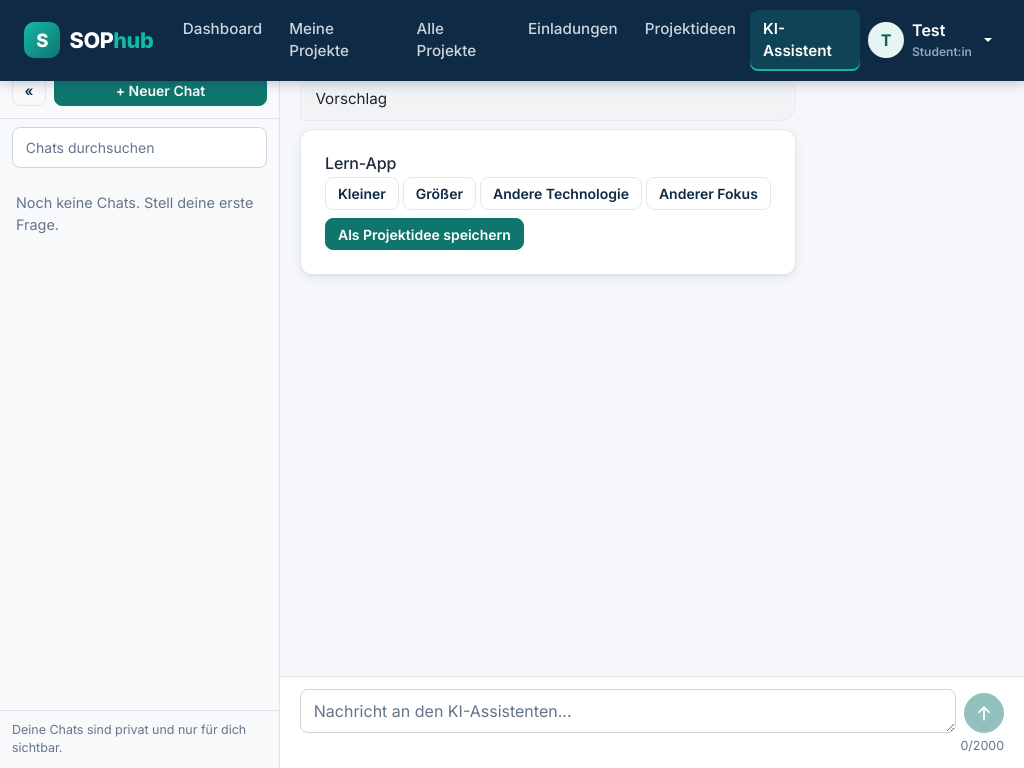
SopAssistent › führt 'Als Projektidee speichern' zum Projektformular
The image size is (1024, 768).
(page scrolled)
Click the button "Als Projektidee speichern" at (424, 234), box [325,218,524,250]
(page scrolled)
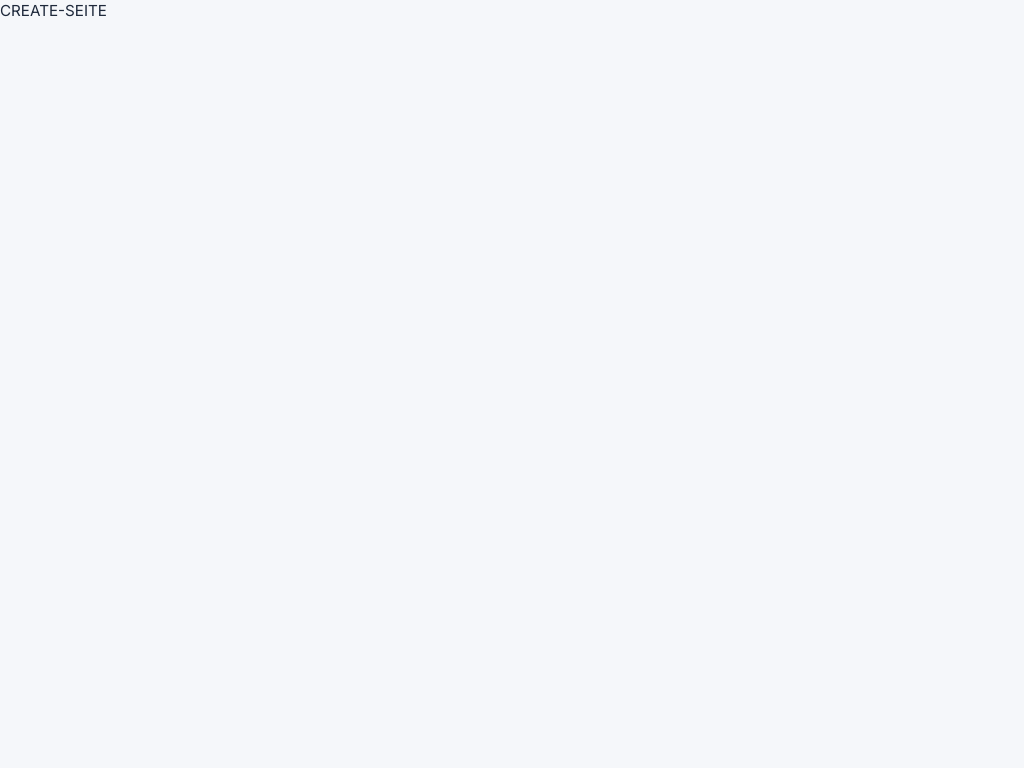
Result: the text "CREATE-SEITE" is shown at [0,1,107,20]
